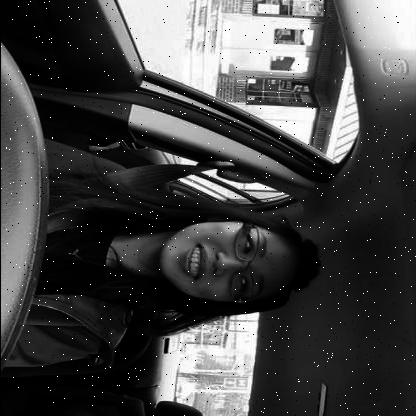seatbelt: (2, 152, 330, 322)
